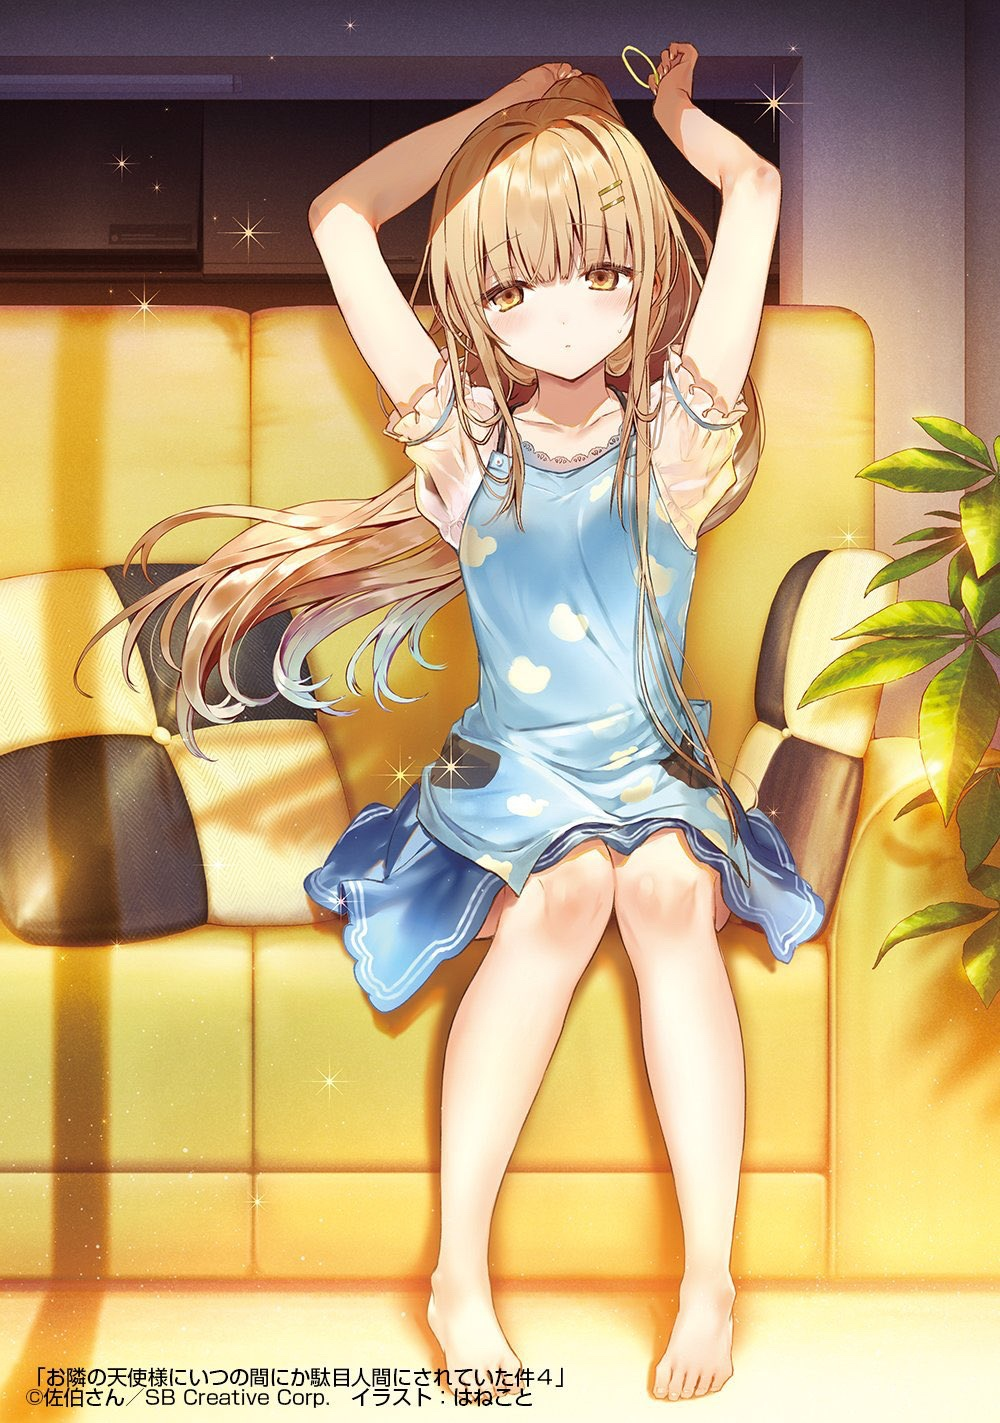纸片人正脸: (418, 77, 685, 396)
